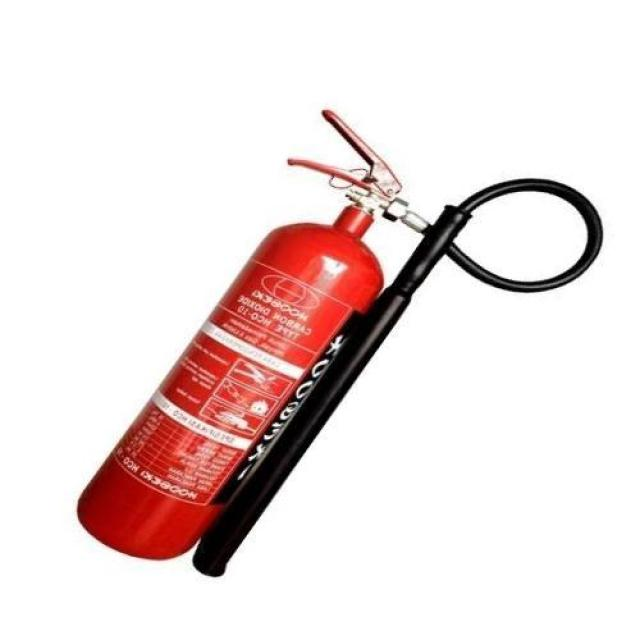fire_extinguisher: (71, 105, 605, 580)
